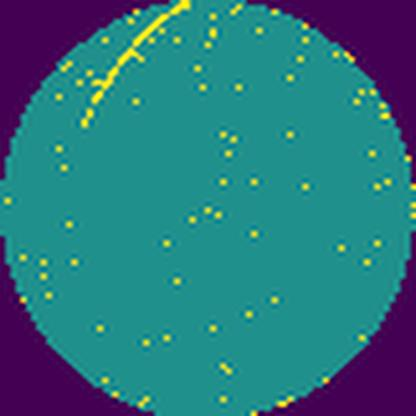Scratch: (75, 0, 195, 134)
